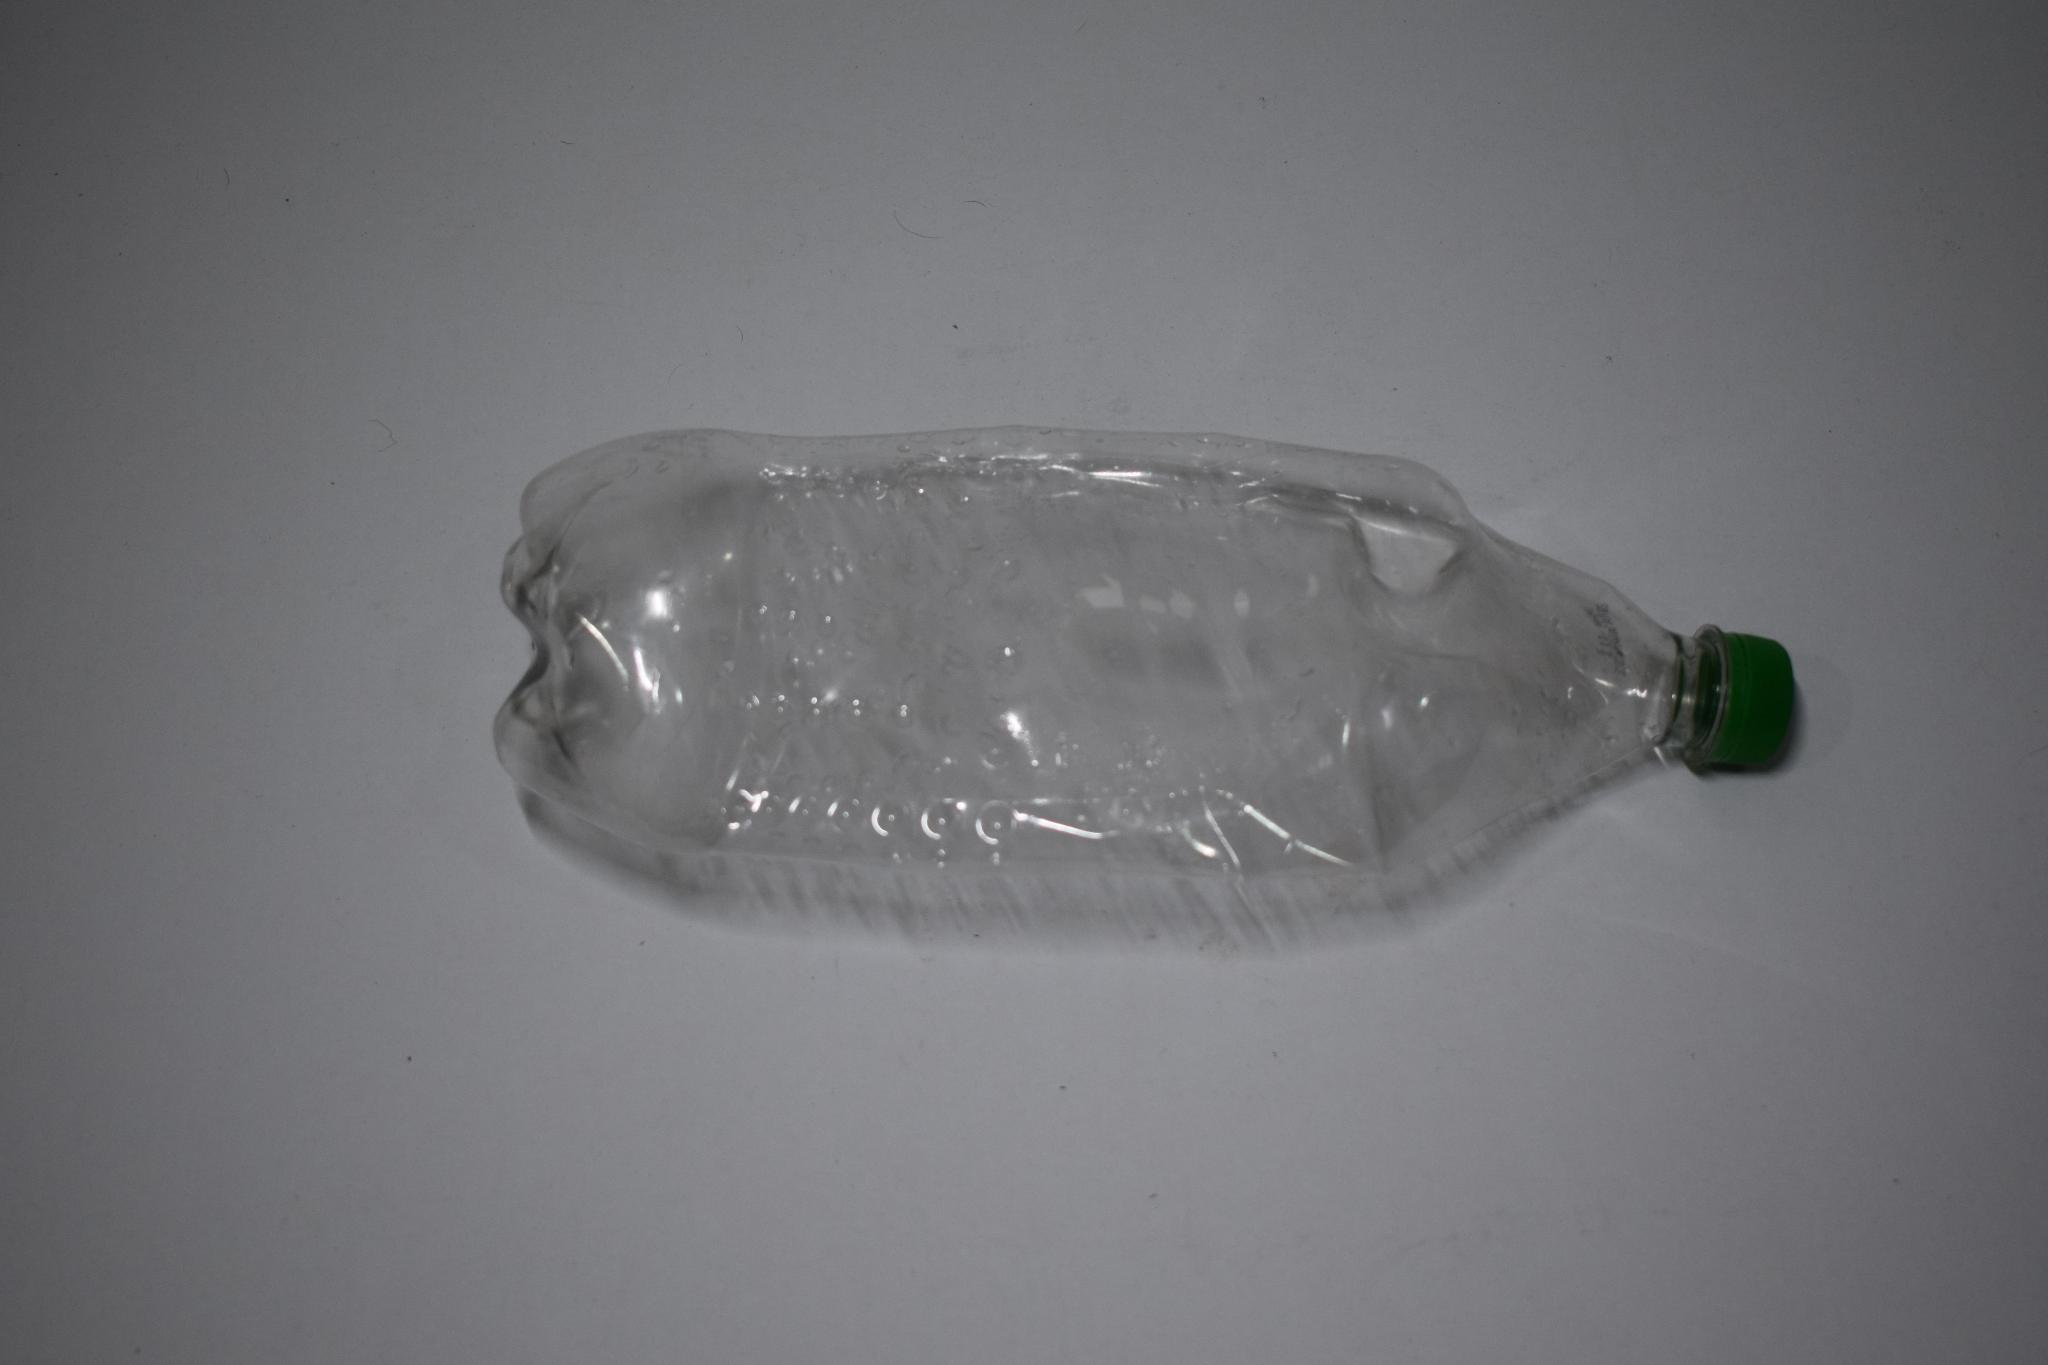bottle: (489, 424, 1839, 930)
